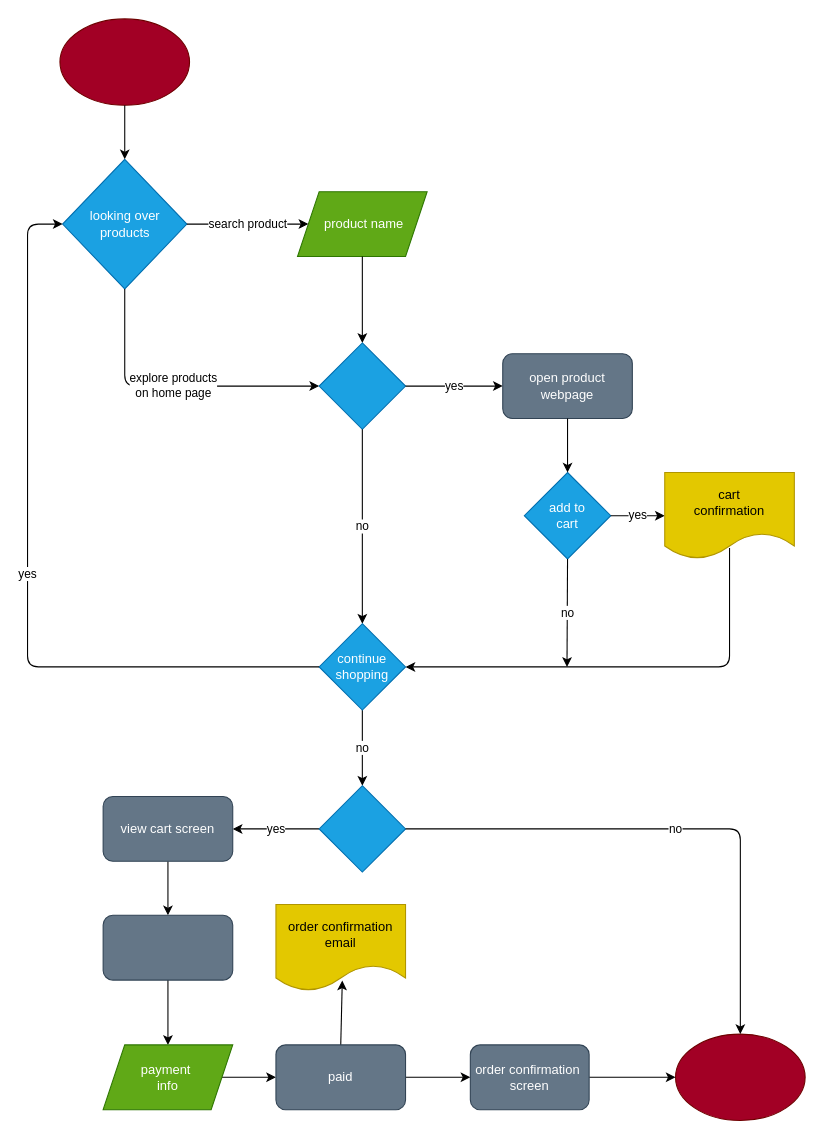
The diagram is 824 pixels wide and 1139 high, and some of its shapes have lost their labels. The shapes that lost their labels are listed below. From the top down, each one's box as (x1, y1, x2, y2) in pixels, then its label:
(59, 18, 190, 105): start
(318, 342, 406, 429): view specific item
(318, 785, 406, 872): checkout
(102, 914, 233, 980): view payment screen
(674, 1033, 805, 1120): leave website
